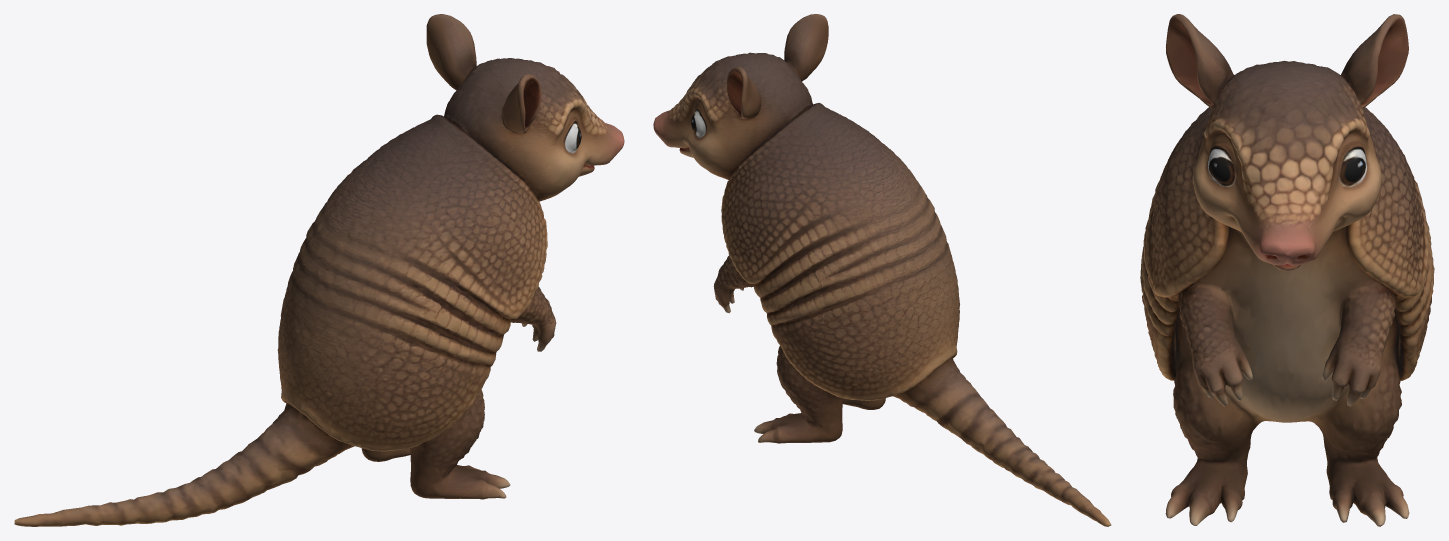
The model's file is bolota.glb.
3 views of the same model, side by side, from view 1: azimuth 30°, elevation 25°; view 2: azimuth 150°, elevation 25°; view 3: azimuth 270°, elevation 25° (orthographic). The views are drawn at different scales.
Visible parts, largest first — view 1: tripo_node_9e8022e0-b0f2-4721-b1aa-c784a1e7c7b2; view 2: tripo_node_9e8022e0-b0f2-4721-b1aa-c784a1e7c7b2; view 3: tripo_node_9e8022e0-b0f2-4721-b1aa-c784a1e7c7b2.
Part boxes in pixels (x1,y1,x2,y2): tripo_node_9e8022e0-b0f2-4721-b1aa-c784a1e7c7b2: (14, 14, 624, 526); tripo_node_9e8022e0-b0f2-4721-b1aa-c784a1e7c7b2: (653, 14, 1111, 526); tripo_node_9e8022e0-b0f2-4721-b1aa-c784a1e7c7b2: (1140, 14, 1434, 526).
Bounding box in the file's own units: 1 × 0.7082 × 0.3618.
Materials: 1 (1 with a texture image).
